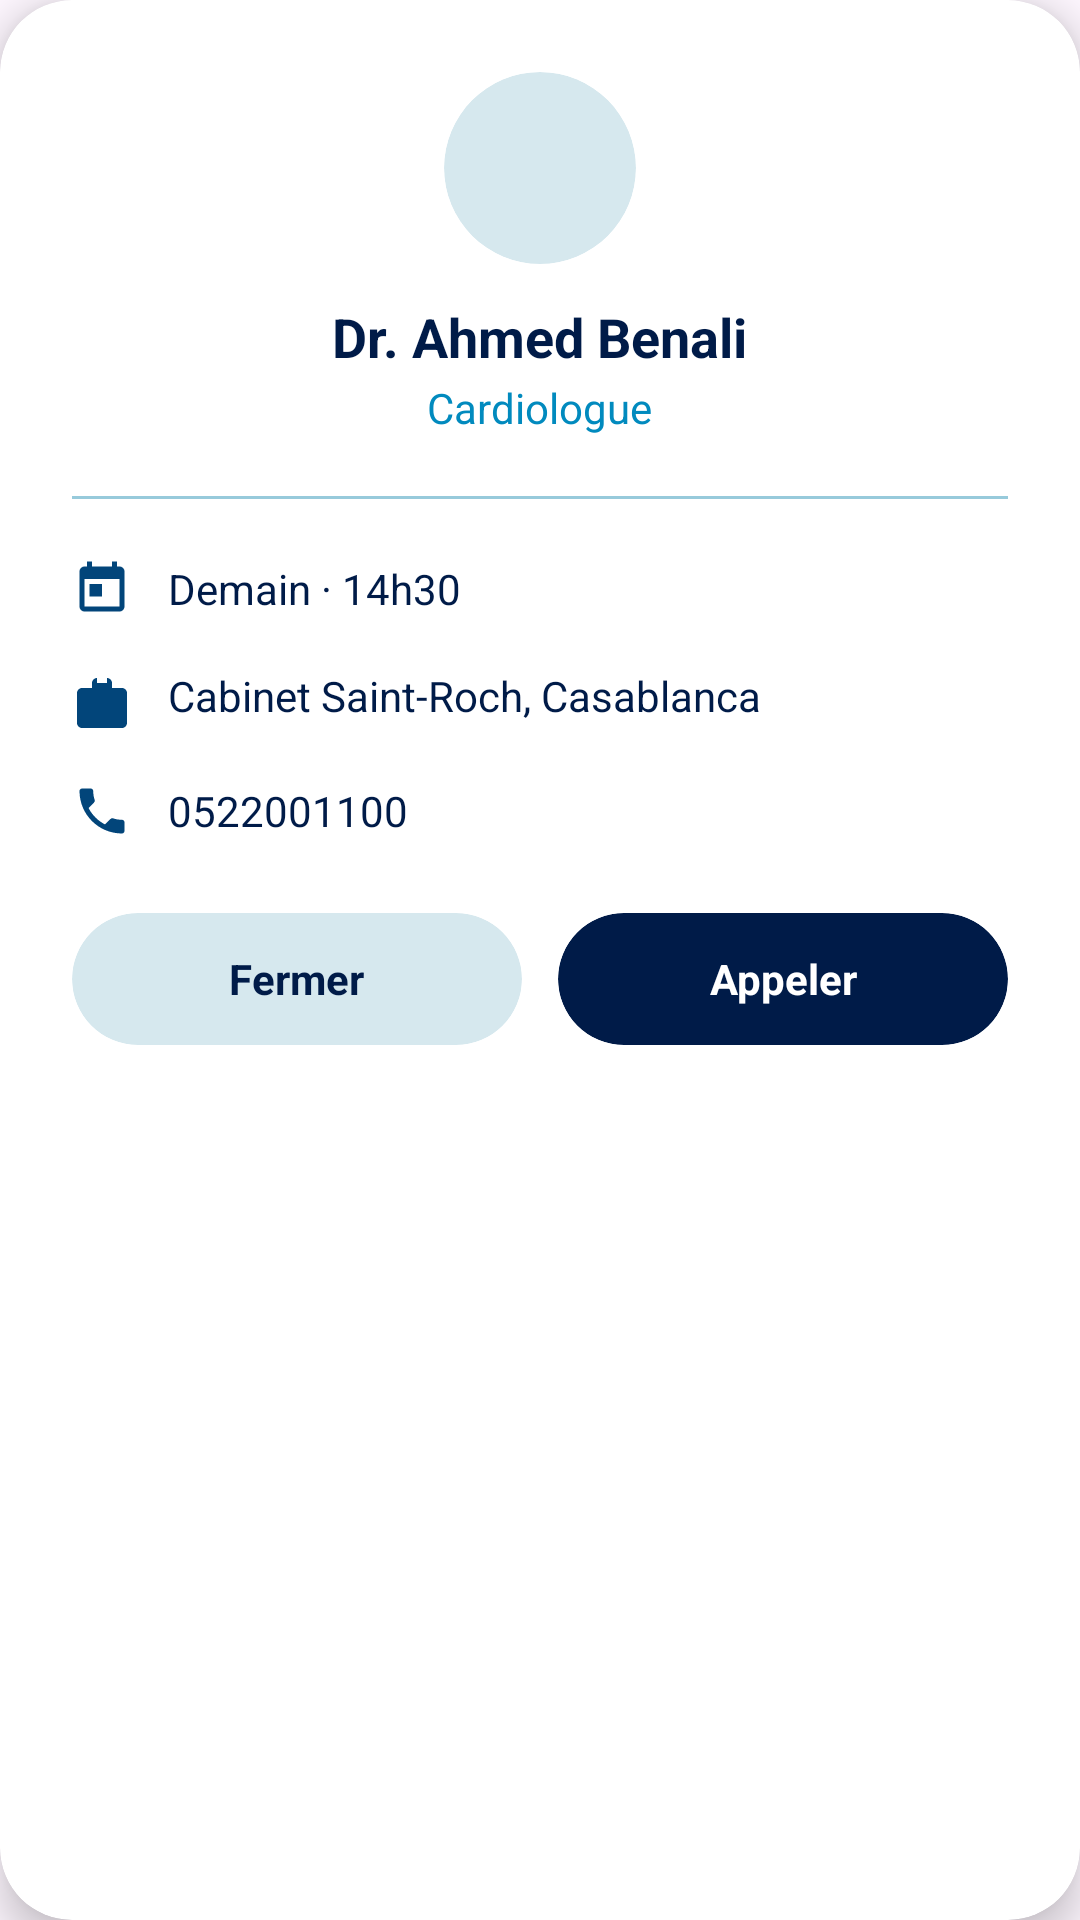

Where to tap for icons on this 1080×1920 app screen, as (x=x, y=y):
calendar: (x=102, y=586)
call: (x=102, y=811)
